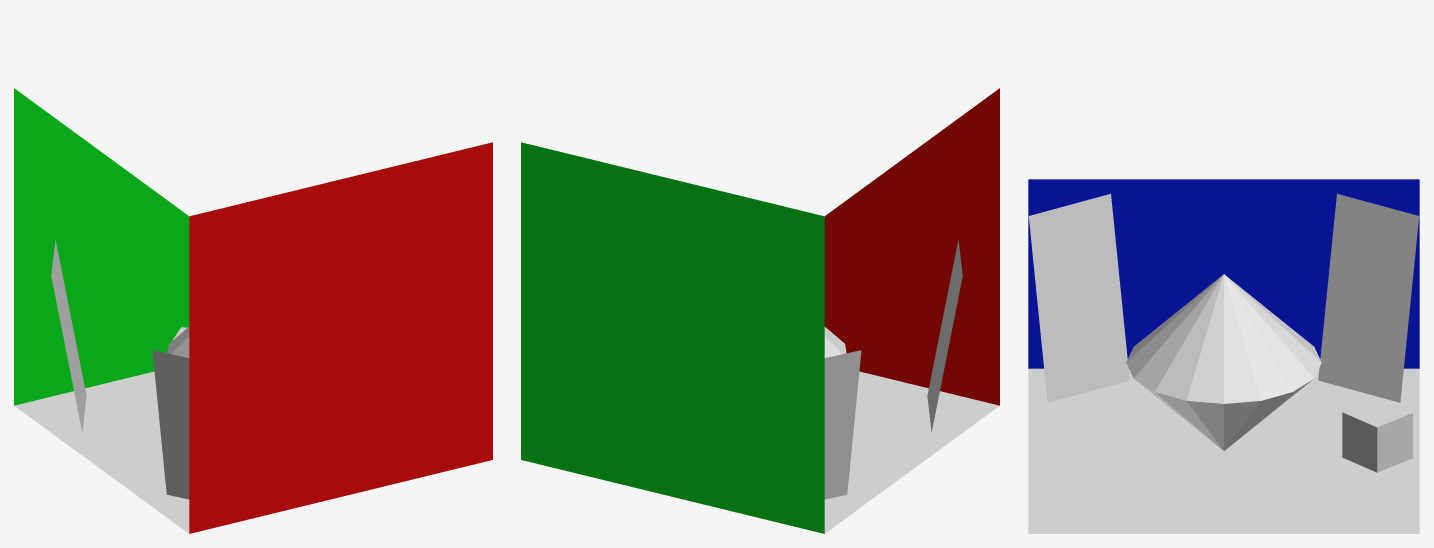
The picture shows the model from 3 angles, left to right: view 1: azimuth 30°, elevation 25°; view 2: azimuth 150°, elevation 25°; view 3: azimuth 270°, elevation 25°; orthographic projection. The views are drawn at different scales.
Parts seen in each view (by area): view 1: left, ceiling, right, floor, mirror, mirror.001; view 2: right, ceiling, left, floor, mirror.001, mirror; view 3: ceiling, floor, back, artifact, mirror, mirror.001, smallCube.
Boxes of the visible parts, bbox=[...] form: left: bbox=[189, 142, 492, 533]; ceiling: bbox=[14, 14, 492, 216]; right: bbox=[14, 88, 189, 405]; floor: bbox=[14, 371, 189, 533]; mirror: bbox=[152, 350, 189, 499]; mirror.001: bbox=[51, 239, 86, 431]; right: bbox=[521, 142, 824, 533]; ceiling: bbox=[521, 14, 999, 216]; left: bbox=[824, 88, 999, 405]; floor: bbox=[824, 371, 999, 533]; mirror.001: bbox=[824, 350, 861, 499]; mirror: bbox=[927, 239, 962, 431]; ceiling: bbox=[1028, 14, 1419, 179]; floor: bbox=[1028, 368, 1419, 533]; back: bbox=[1028, 179, 1419, 368]; artifact: bbox=[1126, 274, 1321, 450]; mirror: bbox=[1028, 193, 1129, 402]; mirror.001: bbox=[1318, 193, 1419, 402]; smallCube: bbox=[1342, 397, 1412, 472].
Size of the model in its own units: 2 by 2 by 2.
